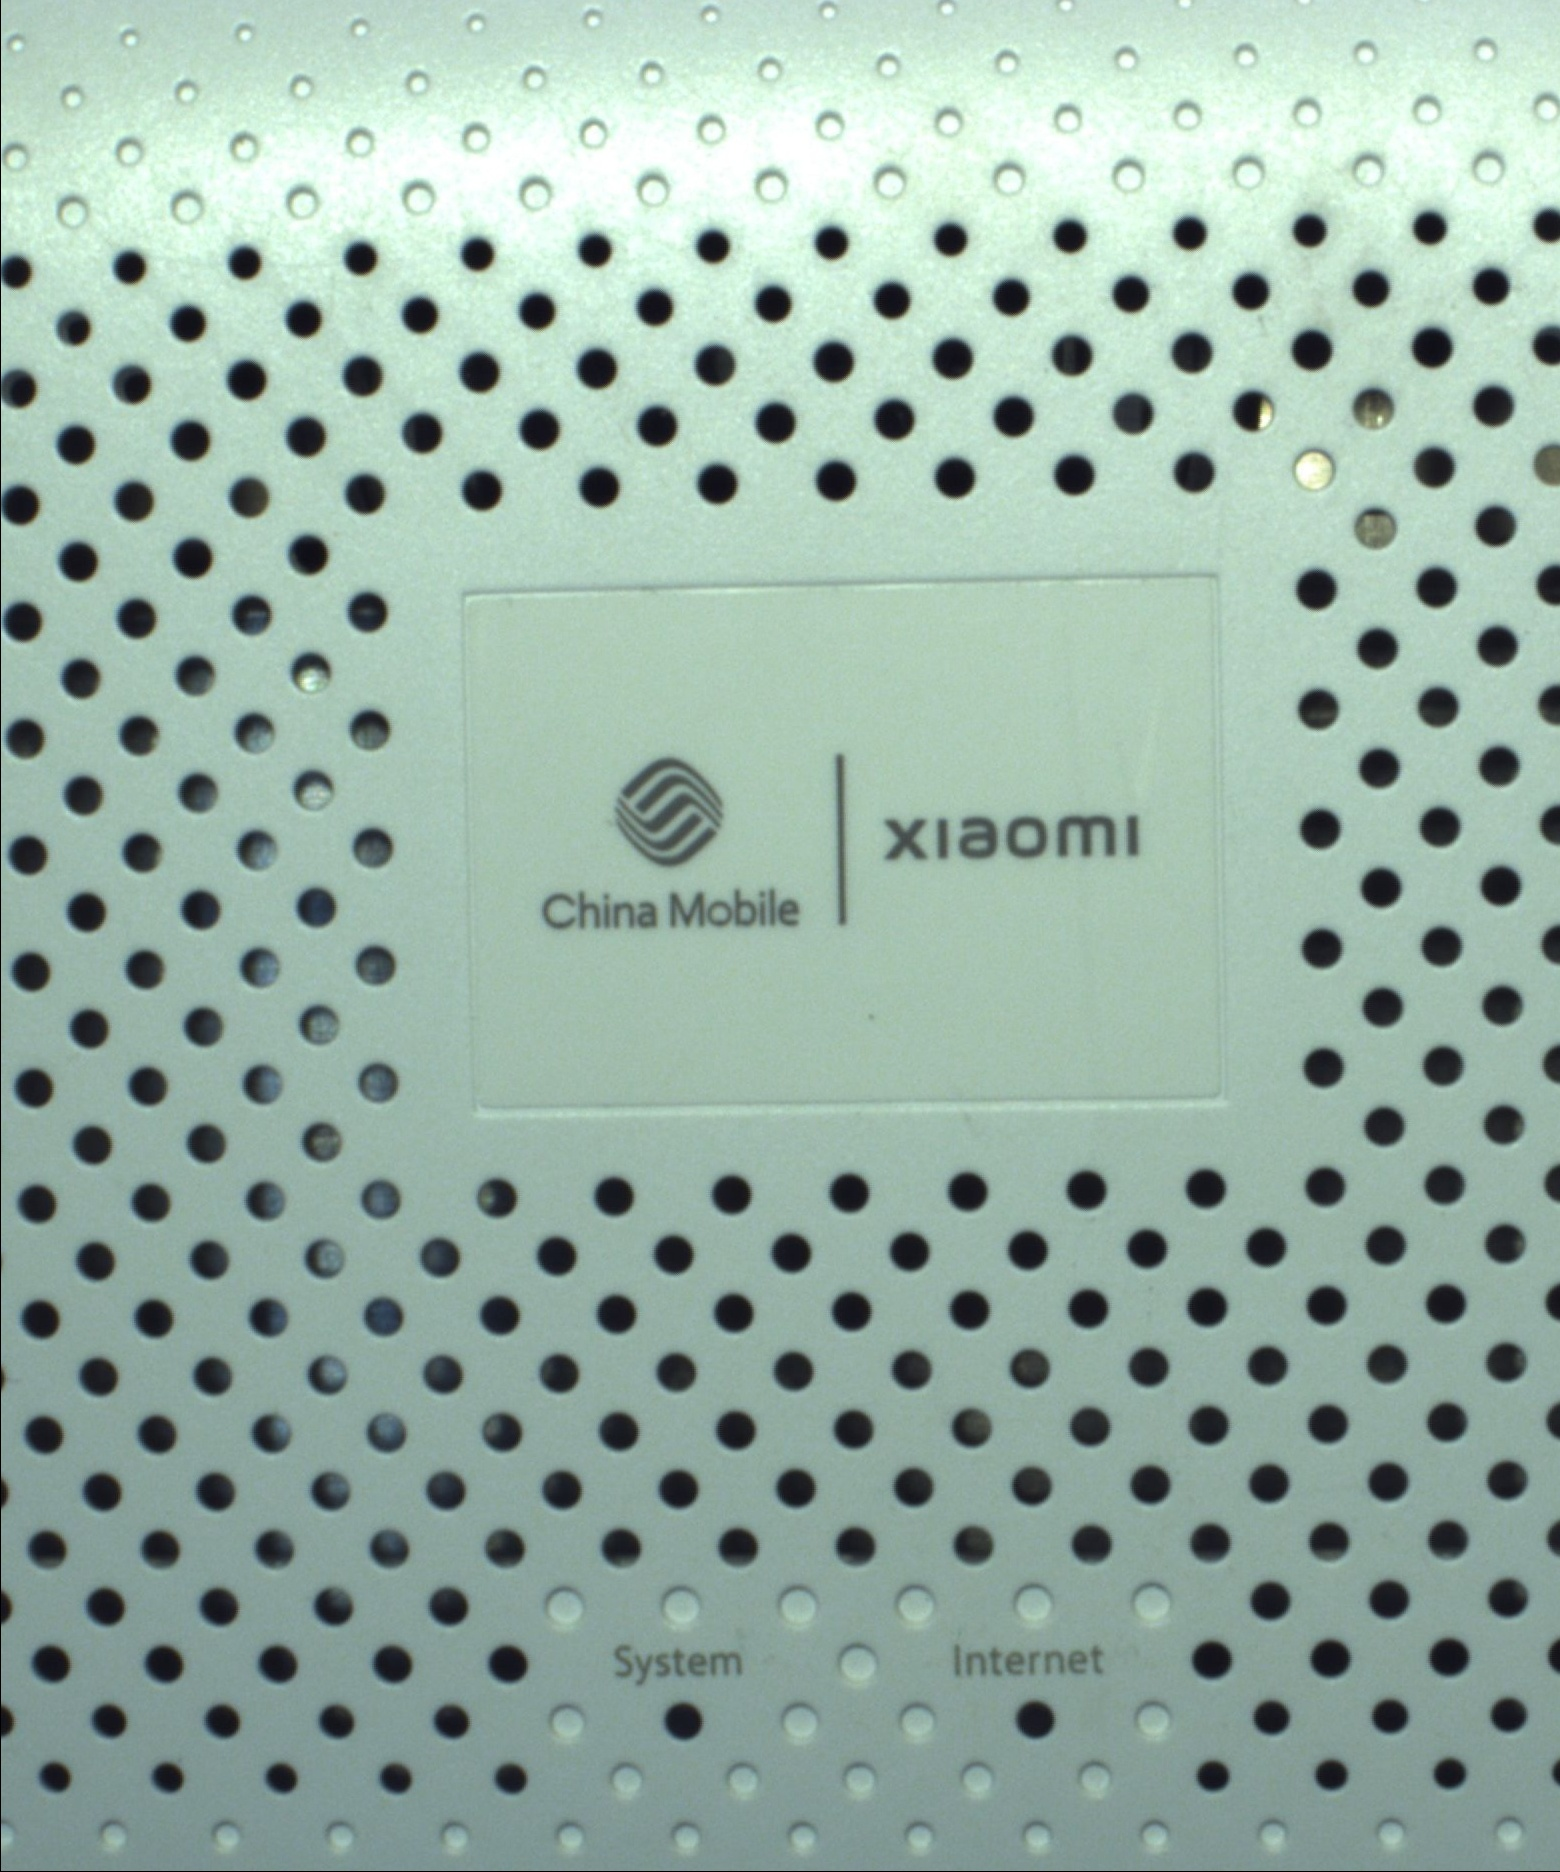MAD_ChinaMobile: (530, 745, 1145, 955)
